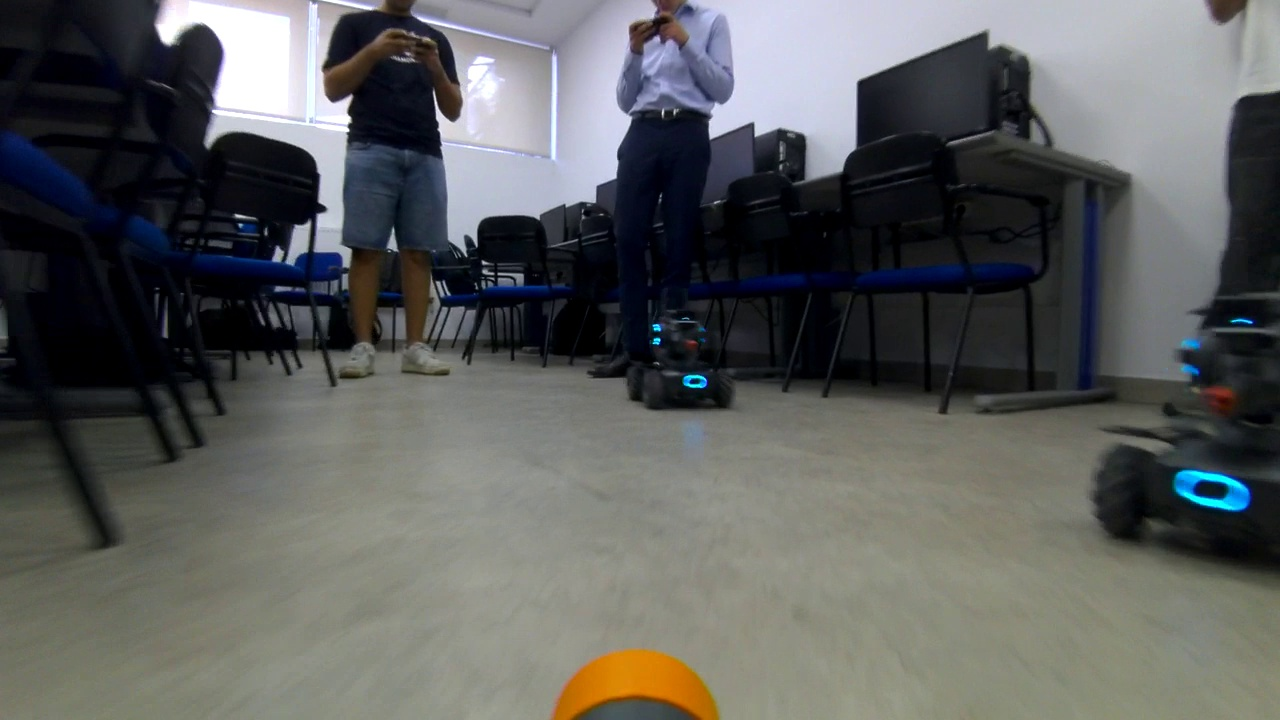robot: (1088, 257, 1280, 584), (620, 300, 744, 413)
